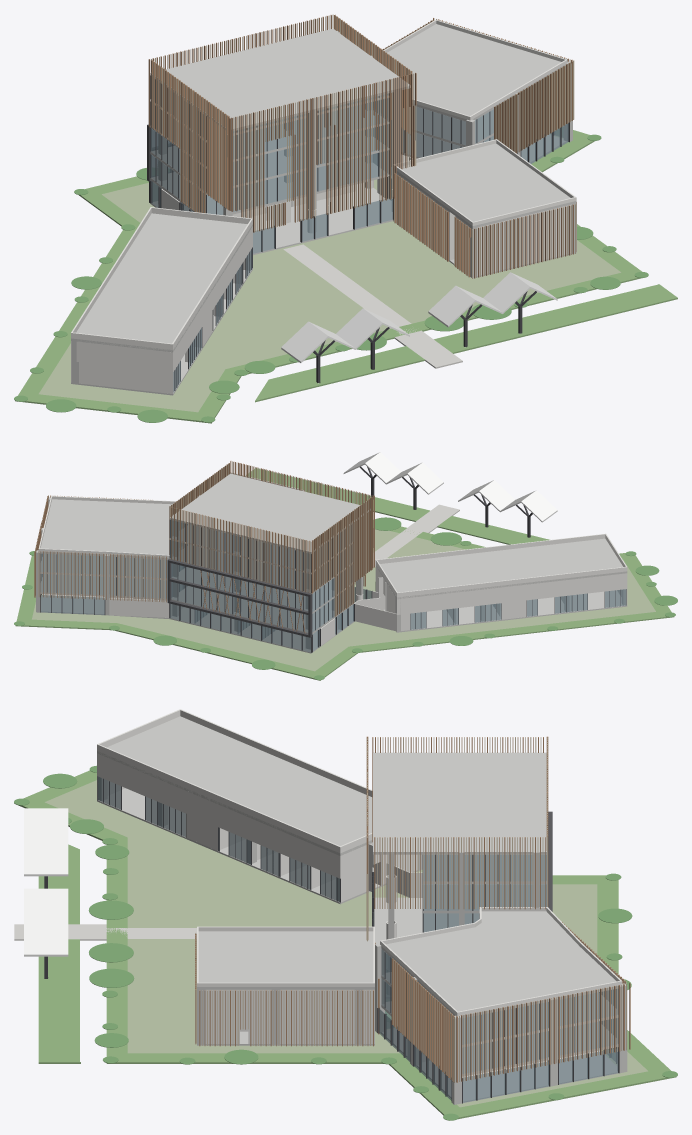
Rendered from cip.glb.
The picture shows the model from 3 angles, top to bottom: view 1: azimuth 30°, elevation 25°; view 2: azimuth 150°, elevation 25°; view 3: azimuth 270°, elevation 25°; orthographic projection. The views are drawn at different scales.
Visible parts, largest first — view 1: 2OKD54E_f4cRAZPfW_aw38, 0BR4NIvOT6G9z9L2DArUjA, 2Uou405F179AQ1VMhp9xlk, 217X0GZunFGf_YTrX79TWy, 27$N7NQn13bBnspjXJ8WVu, 3V5DbverD64gkFDO4ExuJg, 027uN48rL0dhN30Szn0_g5, 38PbswM6L1ZPNxh02YGNcP, 3D7lrtBjX0VPfeZAgae1Ha, 2fNiJyZD1CAea4WWekiq0k, 0R4eMqTpDDKBZvscp2tH7R, 14nAc$cnX238xLzPQDdD89 (+25 smaller); view 2: 2OKD54E_f4cRAZPfW_aw38, 2Uou405F179AQ1VMhp9xlk, 0BR4NIvOT6G9z9L2DArUjA, 027uN48rL0dhN30Szn0_g5, 217X0GZunFGf_YTrX79TWy, 27$N7NQn13bBnspjXJ8WVu, 2RnMWBS3X8lBwlAF9kZ69M, 3w6ces_8LCUuwTrG7dL7sJ, 0oUKkMKvvBYekLdy04Awhf, 1JbLAqRaP3xuKpTQ_cWlsZ, 2nlVdNtOv8SfP2PlErlfmj, 23fLnH54b0jQi$v7frbkq7 (+31 smaller); view 3: 2OKD54E_f4cRAZPfW_aw38, 2Uou405F179AQ1VMhp9xlk, 0BR4NIvOT6G9z9L2DArUjA, 27$N7NQn13bBnspjXJ8WVu, 217X0GZunFGf_YTrX79TWy, 027uN48rL0dhN30Szn0_g5, 3V5DbverD64gkFDO4ExuJg, 38PbswM6L1ZPNxh02YGNcP, 0mkPmdIgf0EfhZRNjHcClt, 0bcaYrvIL7eurMpH5gGs4A, 2RnMWBS3X8lBwlAF9kZ69M, 2cPmpJBUD4qB_MOrtVzErL (+31 smaller).
Part boxes in pixels (x1,y1,x2,y2): 2OKD54E_f4cRAZPfW_aw38: [39, 134, 620, 412]; 0BR4NIvOT6G9z9L2DArUjA: [71, 213, 252, 352]; 2Uou405F179AQ1VMhp9xlk: [150, 28, 410, 131]; 217X0GZunFGf_YTrX79TWy: [15, 130, 642, 423]; 27$N7NQn13bBnspjXJ8WVu: [387, 24, 565, 121]; 3V5DbverD64gkFDO4ExuJg: [393, 143, 576, 228]; 027uN48rL0dhN30Szn0_g5: [71, 207, 252, 372]; 38PbswM6L1ZPNxh02YGNcP: [434, 284, 677, 353]; 3D7lrtBjX0VPfeZAgae1Ha: [151, 182, 393, 255]; 2fNiJyZD1CAea4WWekiq0k: [439, 204, 571, 275]; 0R4eMqTpDDKBZvscp2tH7R: [255, 346, 424, 402]; 14nAc$cnX238xLzPQDdD89: [207, 150, 387, 214]; 2OKD54E_f4cRAZPfW_aw38: [32, 529, 655, 671]; 2Uou405F179AQ1VMhp9xlk: [170, 473, 370, 553]; 0BR4NIvOT6G9z9L2DArUjA: [375, 538, 627, 599]; 027uN48rL0dhN30Szn0_g5: [375, 533, 627, 614]; 217X0GZunFGf_YTrX79TWy: [16, 526, 673, 680]; 27$N7NQn13bBnspjXJ8WVu: [40, 499, 172, 559]; 2RnMWBS3X8lBwlAF9kZ69M: [383, 590, 627, 632]; 3w6ces_8LCUuwTrG7dL7sJ: [171, 582, 308, 632]; 0oUKkMKvvBYekLdy04Awhf: [170, 519, 310, 571]; 1JbLAqRaP3xuKpTQ_cWlsZ: [170, 540, 310, 592]; 2nlVdNtOv8SfP2PlErlfmj: [171, 586, 354, 633]; 23fLnH54b0jQi$v7frbkq7: [171, 563, 308, 610]; 2OKD54E_f4cRAZPfW_aw38: [45, 780, 647, 1107]; 2Uou405F179AQ1VMhp9xlk: [373, 752, 546, 854]; 0BR4NIvOT6G9z9L2DArUjA: [97, 716, 372, 855]; 27$N7NQn13bBnspjXJ8WVu: [381, 911, 618, 1018]; 217X0GZunFGf_YTrX79TWy: [14, 770, 676, 1119]; 027uN48rL0dhN30Szn0_g5: [97, 709, 380, 878]; 3V5DbverD64gkFDO4ExuJg: [198, 931, 374, 989]; 38PbswM6L1ZPNxh02YGNcP: [38, 939, 80, 1063]; 0mkPmdIgf0EfhZRNjHcClt: [280, 989, 354, 1043]; 0bcaYrvIL7eurMpH5gGs4A: [381, 1028, 618, 1103]; 2RnMWBS3X8lBwlAF9kZ69M: [97, 788, 422, 904]; 2cPmpJBUD4qB_MOrtVzErL: [462, 1018, 618, 1073].
Bounding box in the file's own units: 108 × 21.2 × 78.09.
